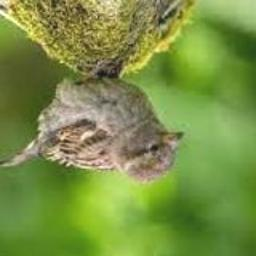Sparrow: (0, 61, 186, 186)
